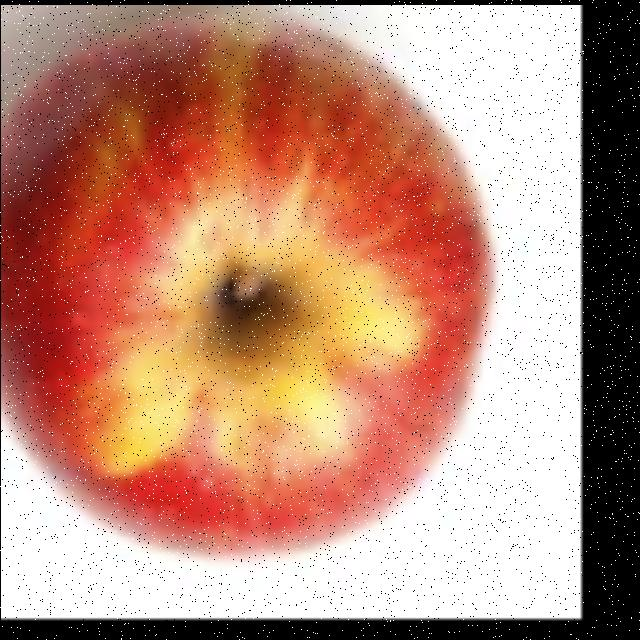Apel Segar: (0, 17, 495, 557)
